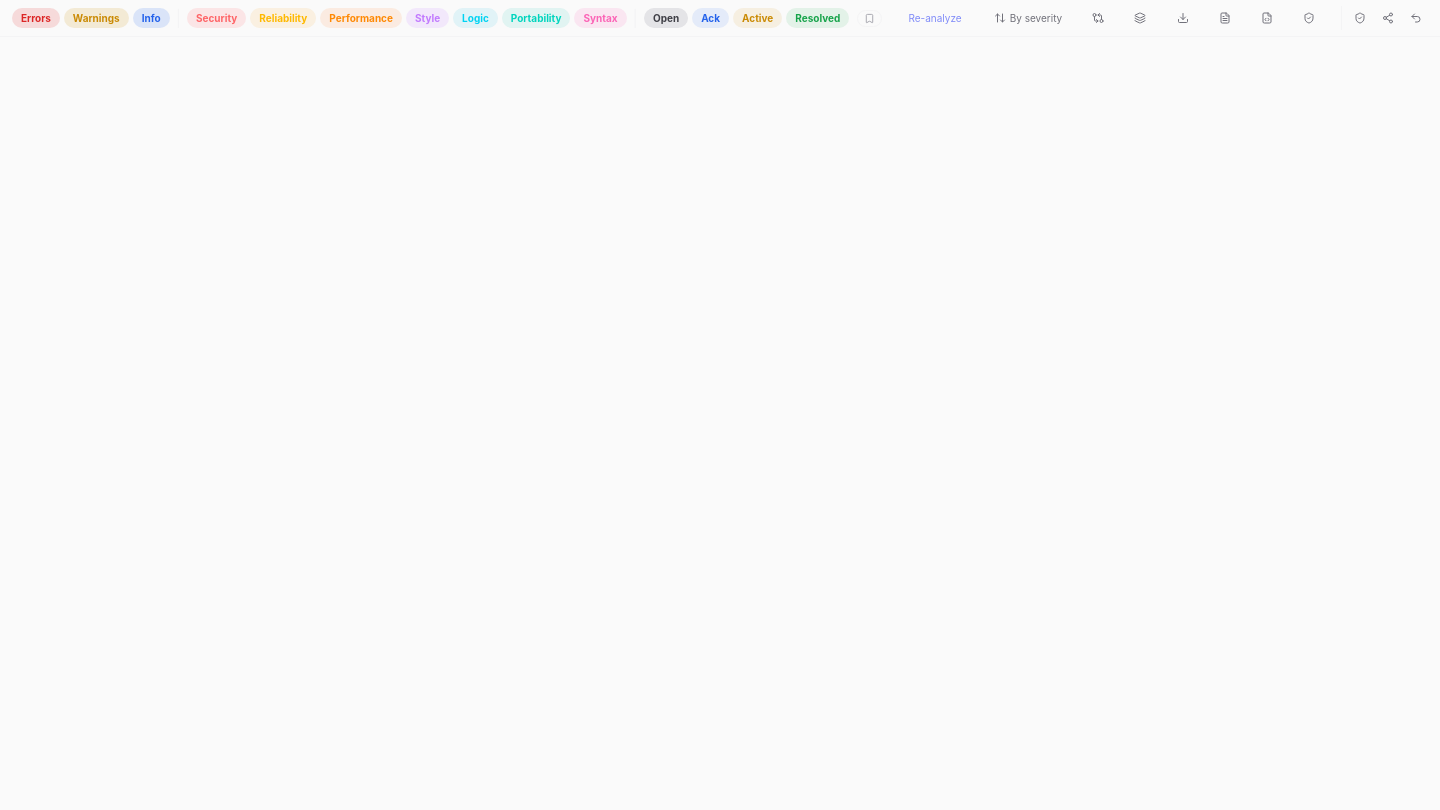
Test: FindingsToolbar popover dismissal (U1.5) › closes the saved-views popover on outside mousedown
Click the button named "saved filter views" at (870, 18), box [857,10,882,27]
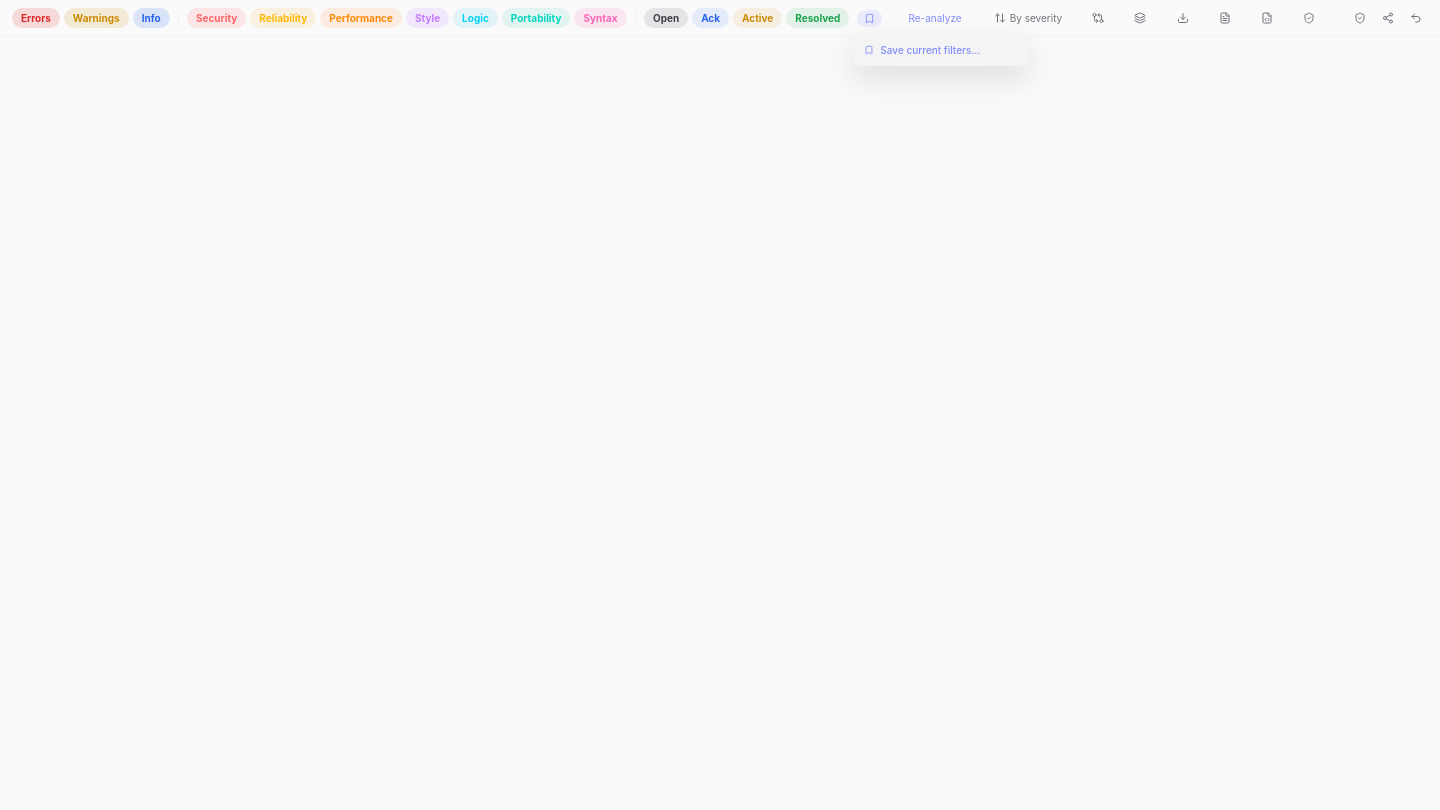
Now the button "Save current filters…" is shown, box [854,37,1028,63]
Press the mouse on the element that starts with "Errors" at (720, 405), box [0,0,1439,809]
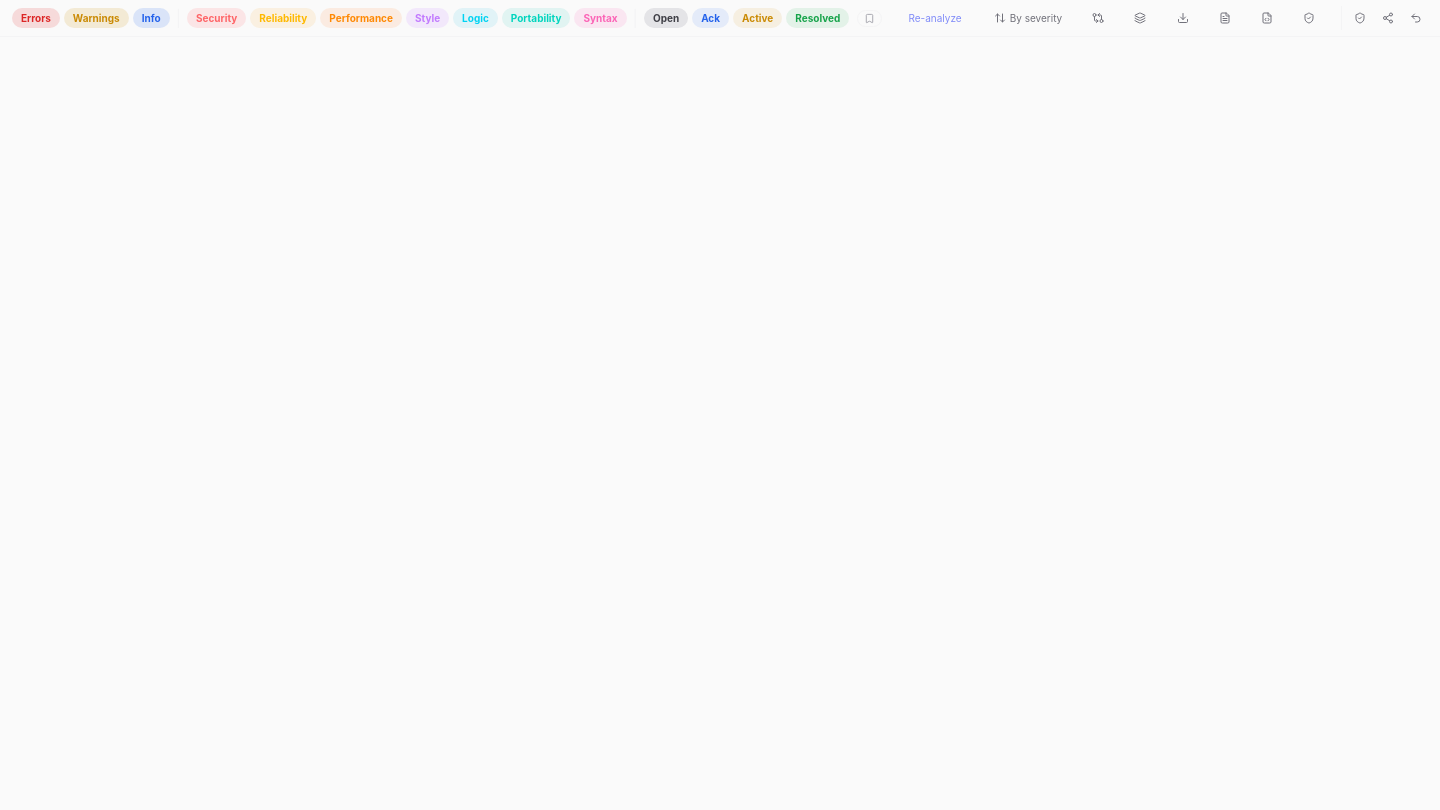
Now the button "Save current filters…" is gone
